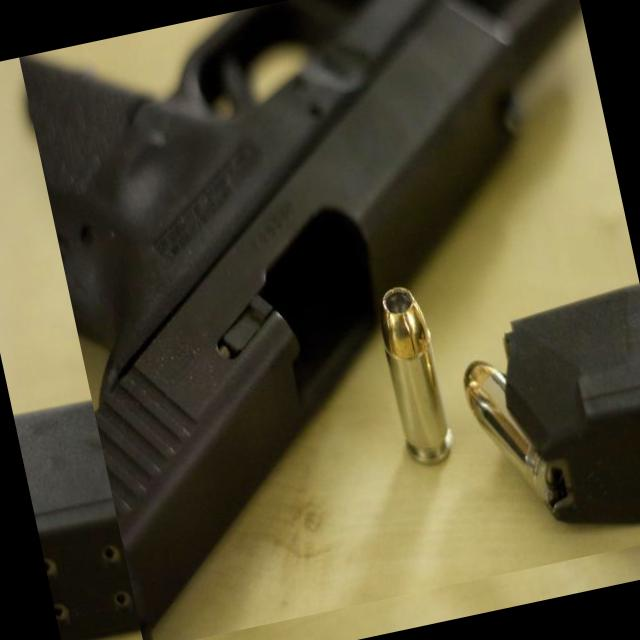Knife: (19, 0, 580, 640)
